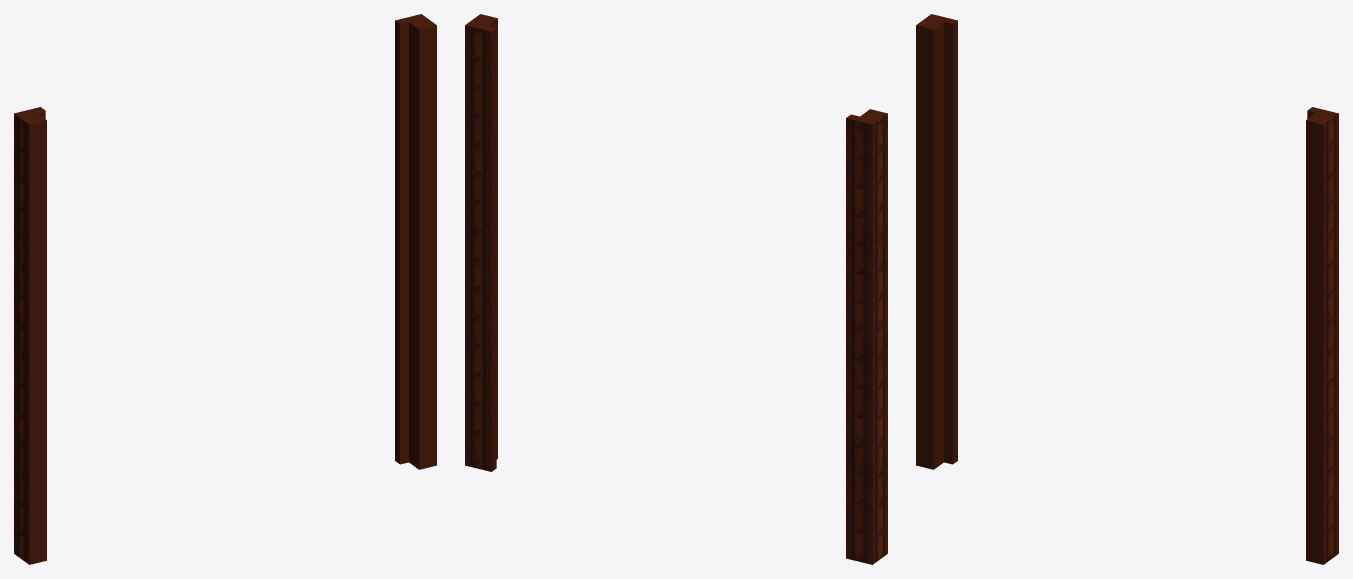
Rendered from SM_world_3_door_big_frame.fbx.
3 renders of one model, left to right at view 1: azimuth 30°, elevation 25°; view 2: azimuth 150°, elevation 25°; view 3: azimuth 330°, elevation 25°, orthographic.
Visible parts, largest first — view 1: Ground_Factory.005; view 2: Ground_Factory.005; view 3: Ground_Factory.005.
Boxes of the visible parts, <box> form: Ground_Factory.005: <box>14,14,436,564</box>; Ground_Factory.005: <box>465,14,887,564</box>; Ground_Factory.005: <box>916,14,1338,564</box>.
Size of the model in its own units: 2300 by 150 by 2375.
